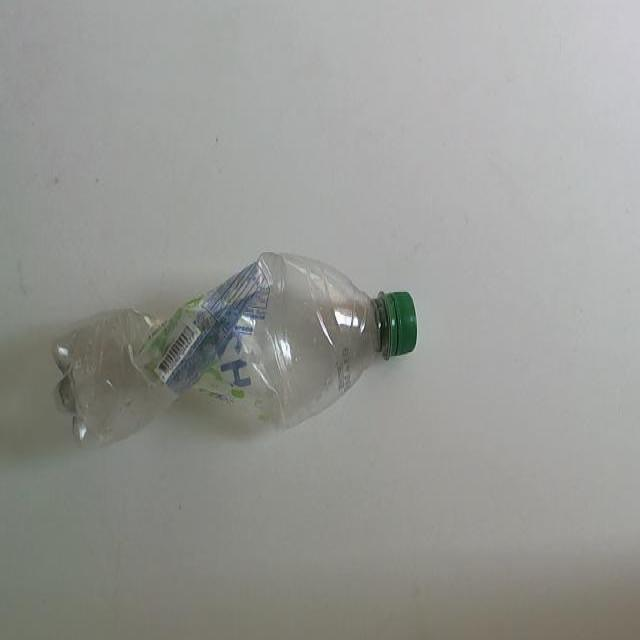defect: (47, 247, 421, 455)
